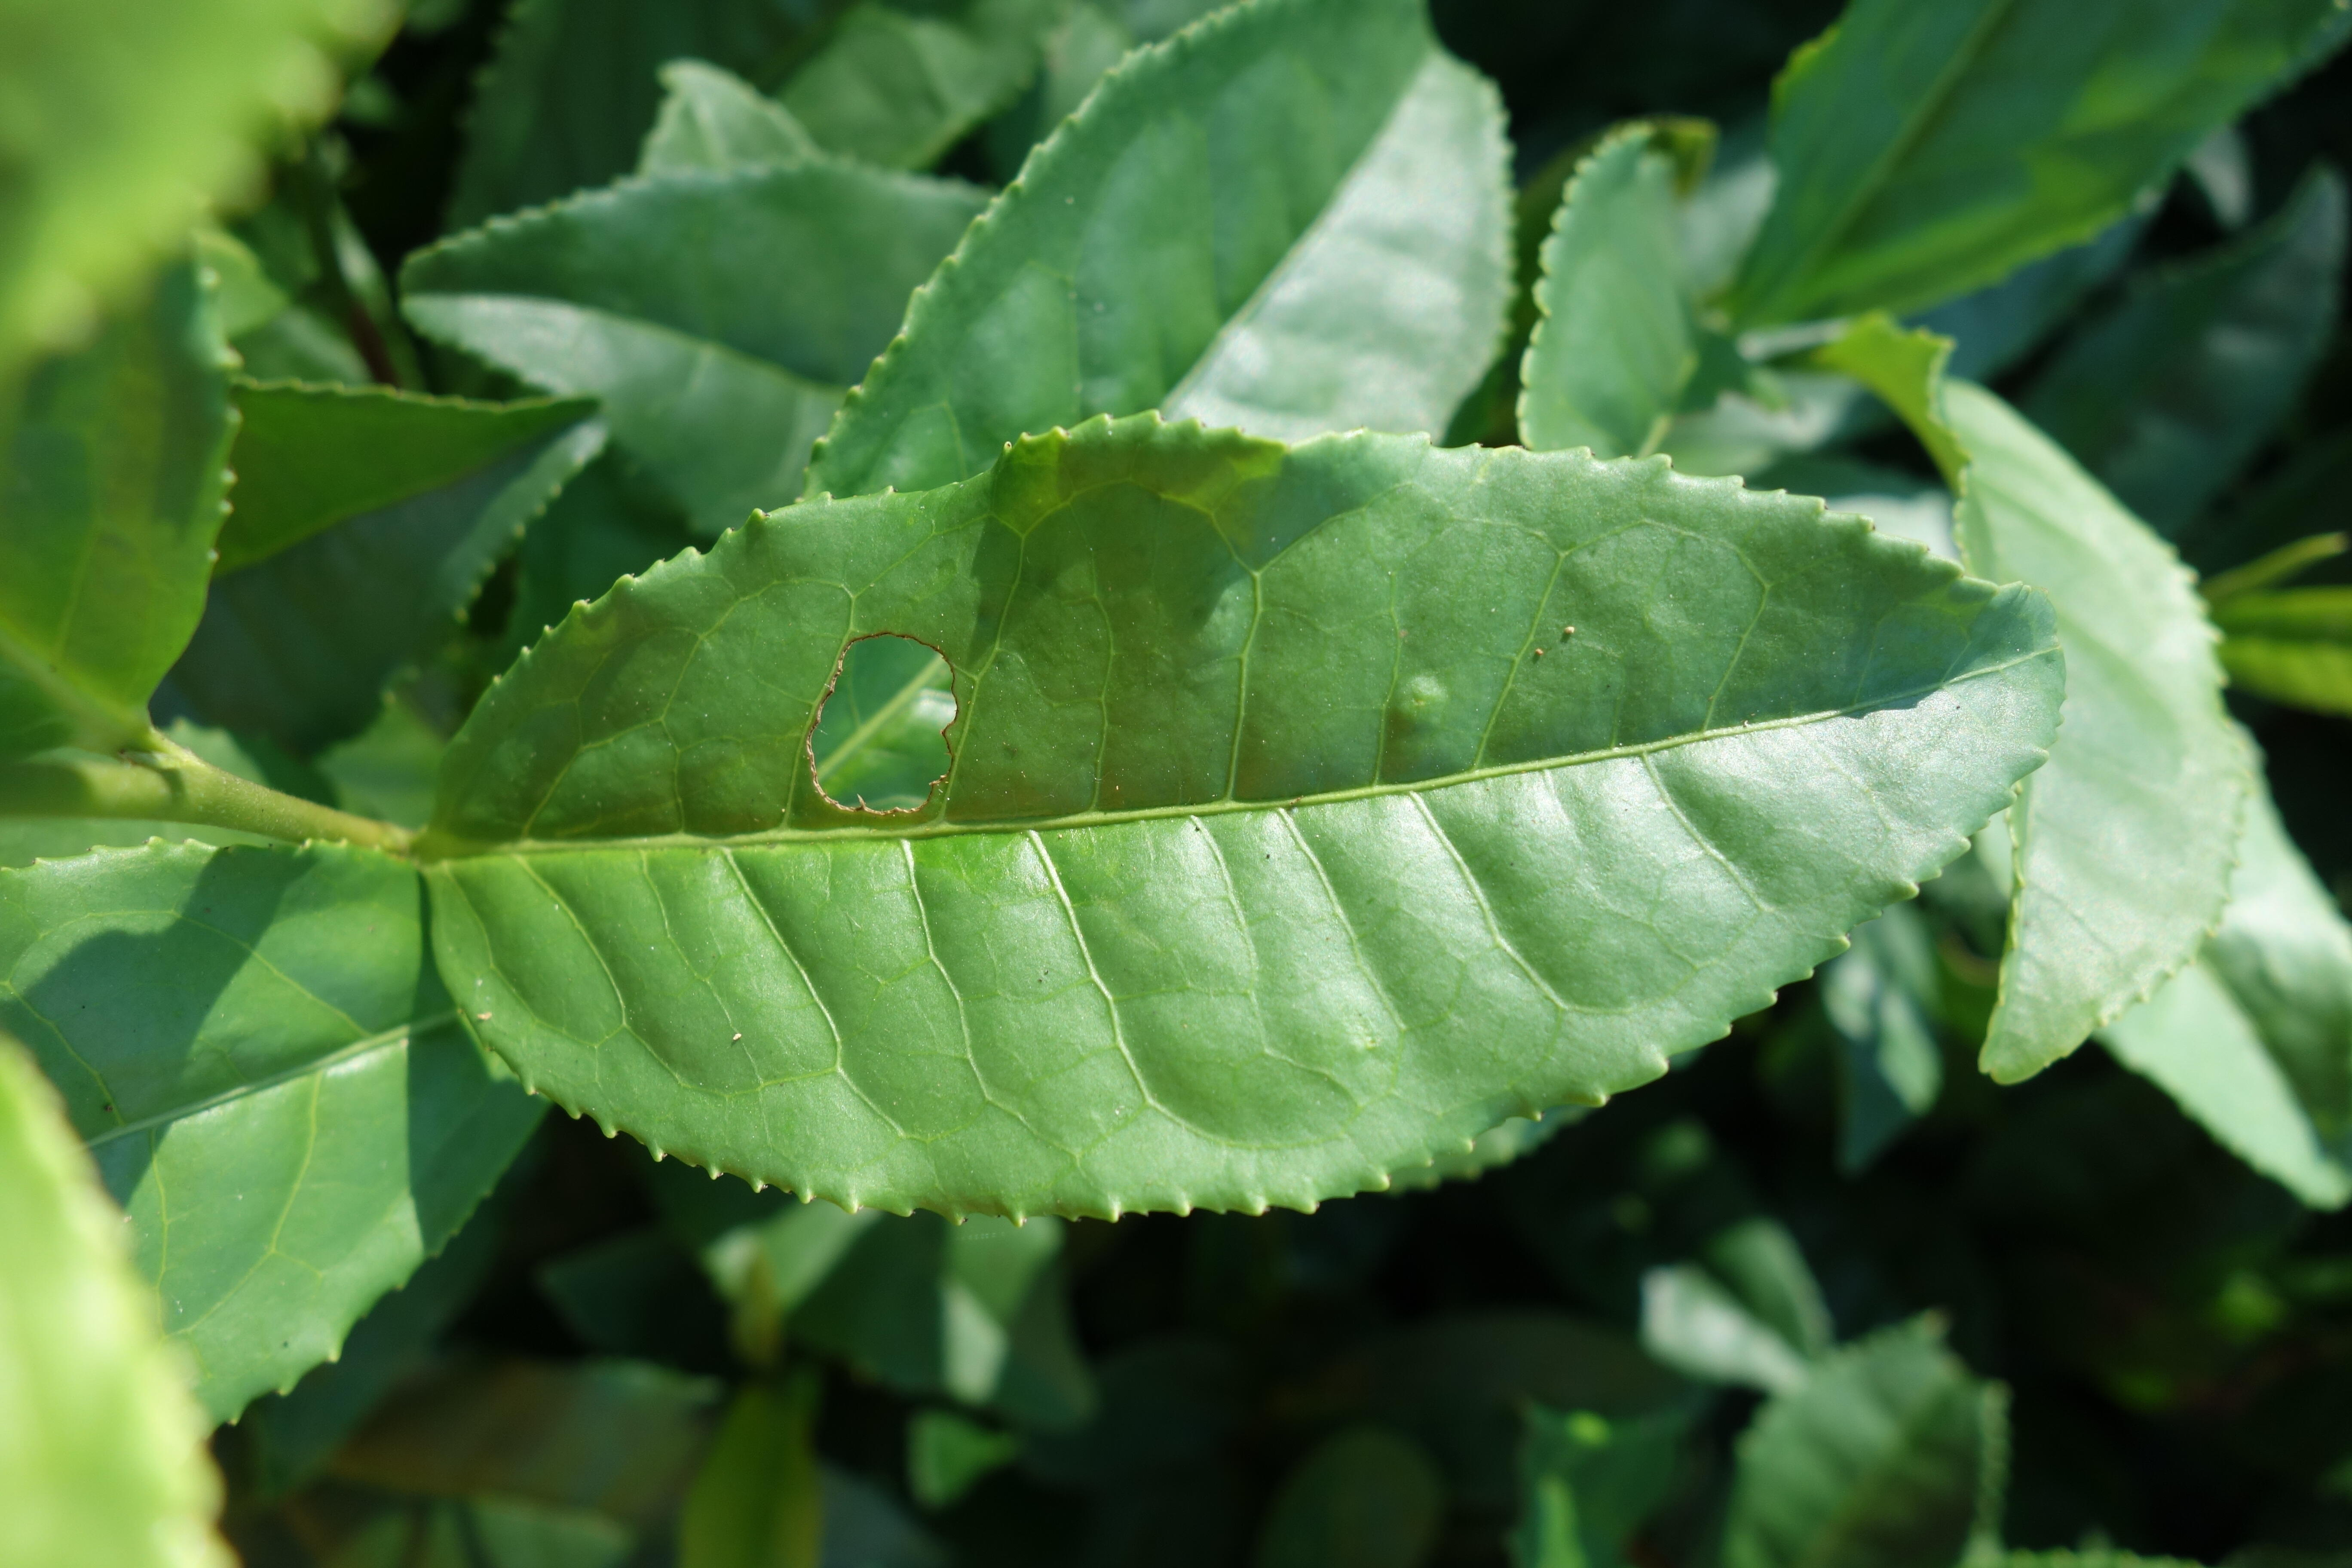chihuo_low: (411, 411, 2070, 1225)
